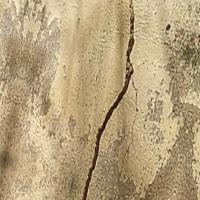crack: (64, 0, 153, 199)
